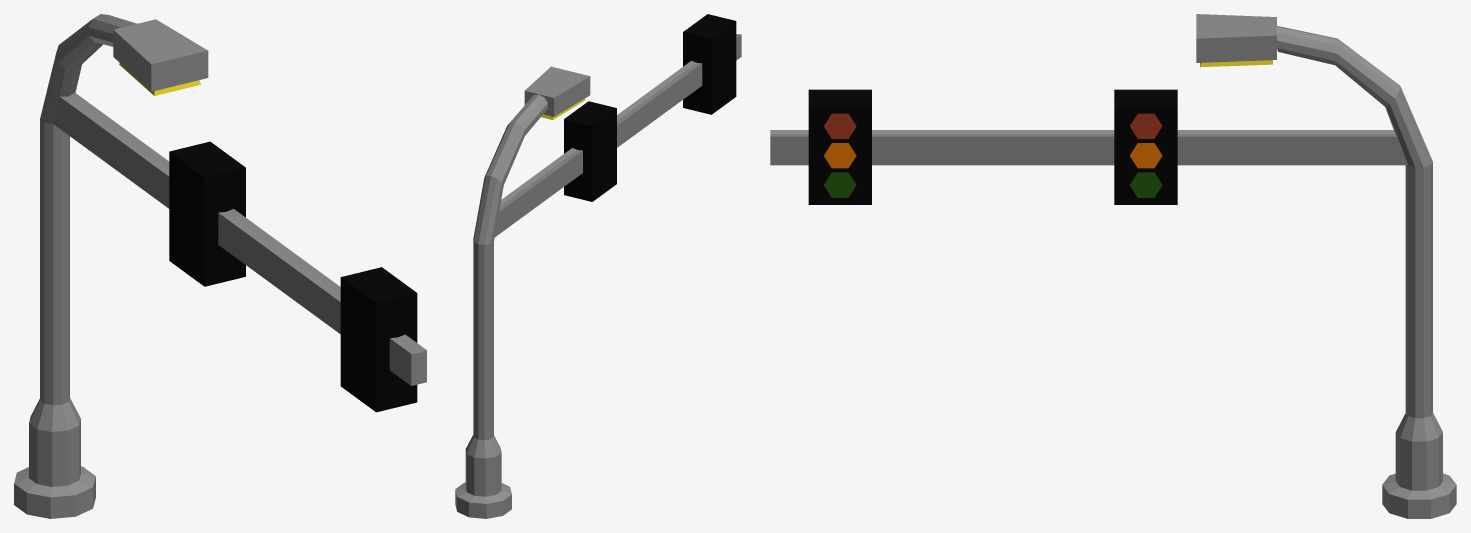
The model's file is TraficLight_02.fbx.
3 renders of one model, left to right at view 1: azimuth 30°, elevation 25°; view 2: azimuth 150°, elevation 25°; view 3: azimuth 270°, elevation 25°, orthographic. The views are drawn at different scales.
Parts seen in each view (by area): view 1: TraficLight_02; view 2: TraficLight_02; view 3: TraficLight_02.
Part boxes in pixels (x1,y1,x2,y2): TraficLight_02: [14, 14, 426, 518]; TraficLight_02: [455, 14, 741, 518]; TraficLight_02: [770, 14, 1456, 518].
Bounding box in the file's own units: 649 × 4824 × 6282.
